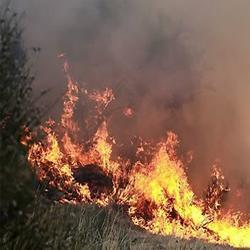fire: (136, 159, 196, 217), (43, 136, 112, 161), (210, 219, 250, 242)
